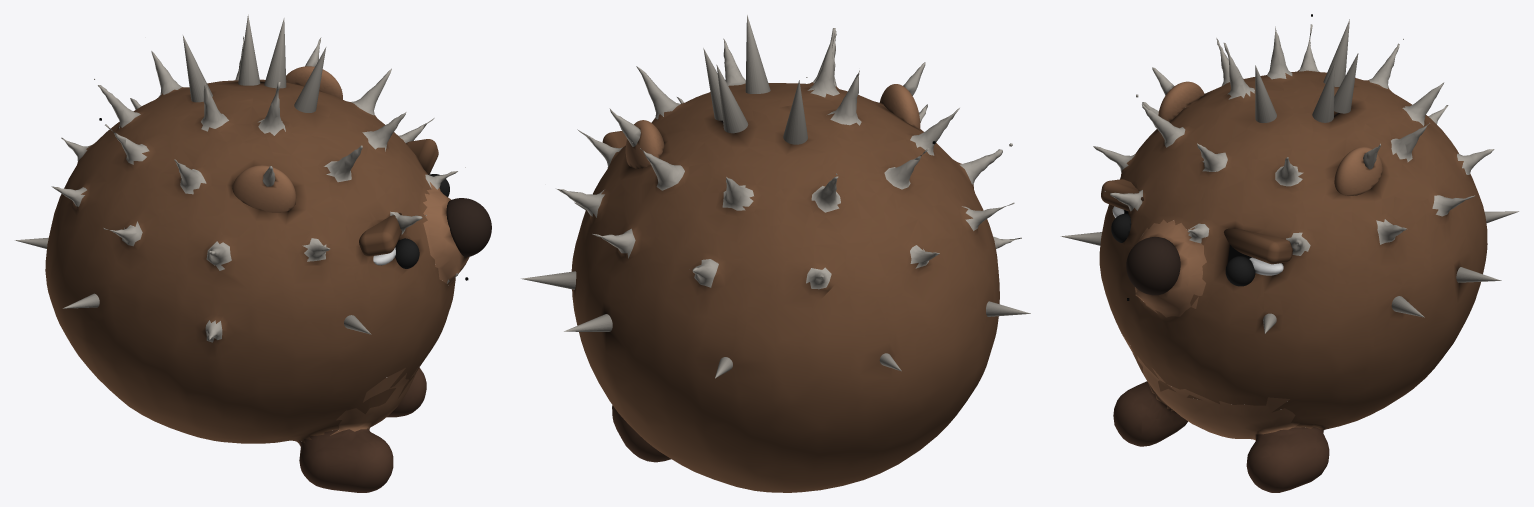
File: ska-vi-saga-imorgon-klockan-tre.glb
3 renders of one model, left to right at view 1: azimuth 30°, elevation 25°; view 2: azimuth 150°, elevation 25°; view 3: azimuth 270°, elevation 25°, orthographic. The views are drawn at different scales.
Visible parts, largest first — view 1: ourico__r0, ourico__r14, ourico__r10, ourico__r13, ourico__r1, ourico__r19, ourico__r20, ourico__r18, ourico__r3, ourico__r17, ourico__r12; view 2: ourico__r0, ourico__r18, ourico__r19, ourico__r14, ourico__r1, ourico__r3, ourico__r20, ourico__r9; view 3: ourico__r0, ourico__r10, ourico__r17, ourico__r18, ourico__r14, ourico__r20, ourico__r1, ourico__r16, ourico__r19, ourico__r3, ourico__r13.
Boxes of the visible parts, x1,y1,x2,y2 form: ourico__r0: (45,36,469,492); ourico__r14: (232,165,296,212); ourico__r10: (446,198,491,257); ourico__r13: (359,212,401,256); ourico__r1: (238,14,260,85); ourico__r19: (294,47,326,112); ourico__r20: (264,18,286,88); ourico__r18: (286,66,342,99); ourico__r3: (183,35,212,102); ourico__r17: (406,139,438,174); ourico__r12: (395,238,419,268); ourico__r0: (557,28,1021,492); ourico__r18: (625,120,664,168); ourico__r19: (745,15,770,93); ourico__r14: (879,84,920,128); ourico__r1: (716,64,748,133); ourico__r3: (783,80,807,144); ourico__r20: (703,48,722,120); ourico__r9: (521,271,576,289); ourico__r0: (1093,14,1494,492); ourico__r10: (1126,237,1180,295); ourico__r17: (1224,228,1292,264); ourico__r18: (1334,147,1382,195); ourico__r14: (1158,81,1204,121); ourico__r20: (1312,64,1334,122); ourico__r1: (1334,53,1358,113); ourico__r16: (1225,256,1255,286); ourico__r19: (1255,65,1276,122); ourico__r3: (1323,19,1349,86); ourico__r13: (1101,179,1143,211).
Size of the model in its own units: 1.03 by 0.9525 by 1.02.
